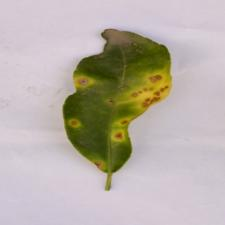Canker: (65, 44, 173, 176)
